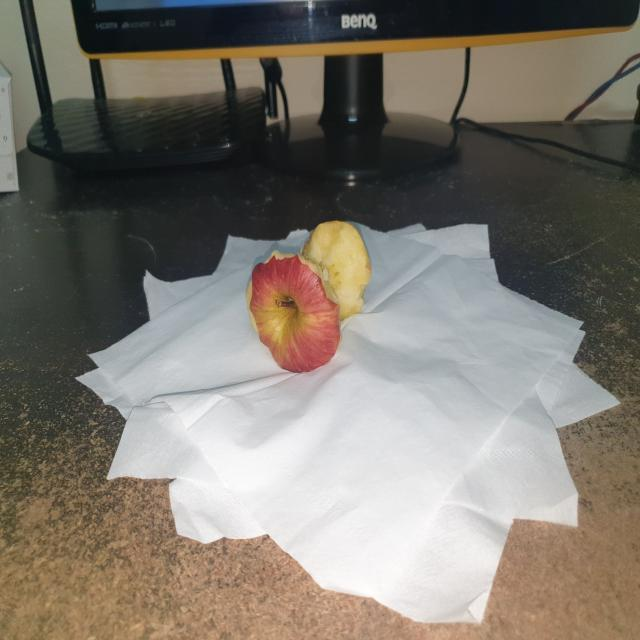apple: (249, 212, 371, 378)
